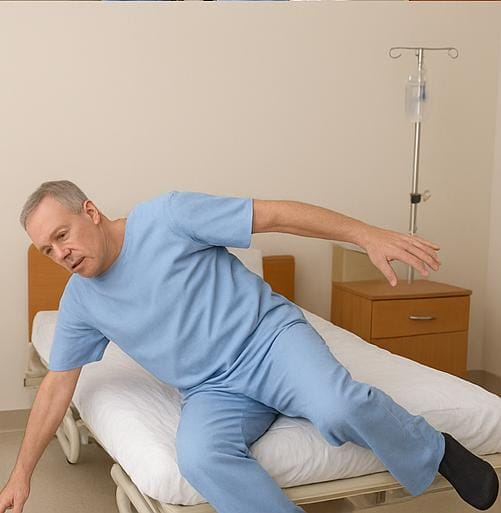sleeping: (4, 156, 488, 513)
